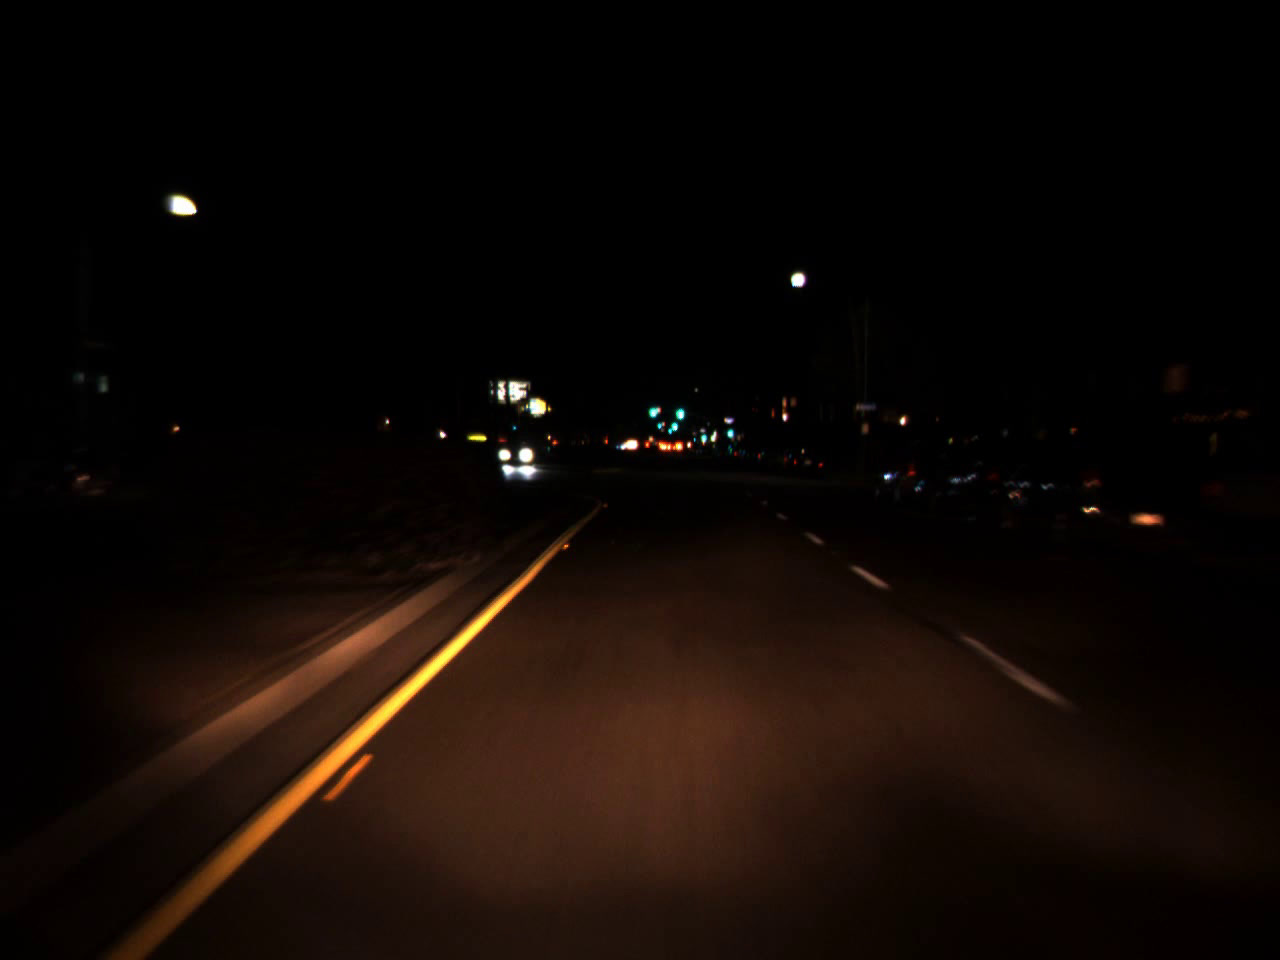go: (672, 392, 686, 425), (646, 397, 660, 421), (669, 411, 678, 432), (666, 416, 673, 437), (725, 424, 734, 436), (655, 418, 662, 430), (700, 430, 707, 442)
